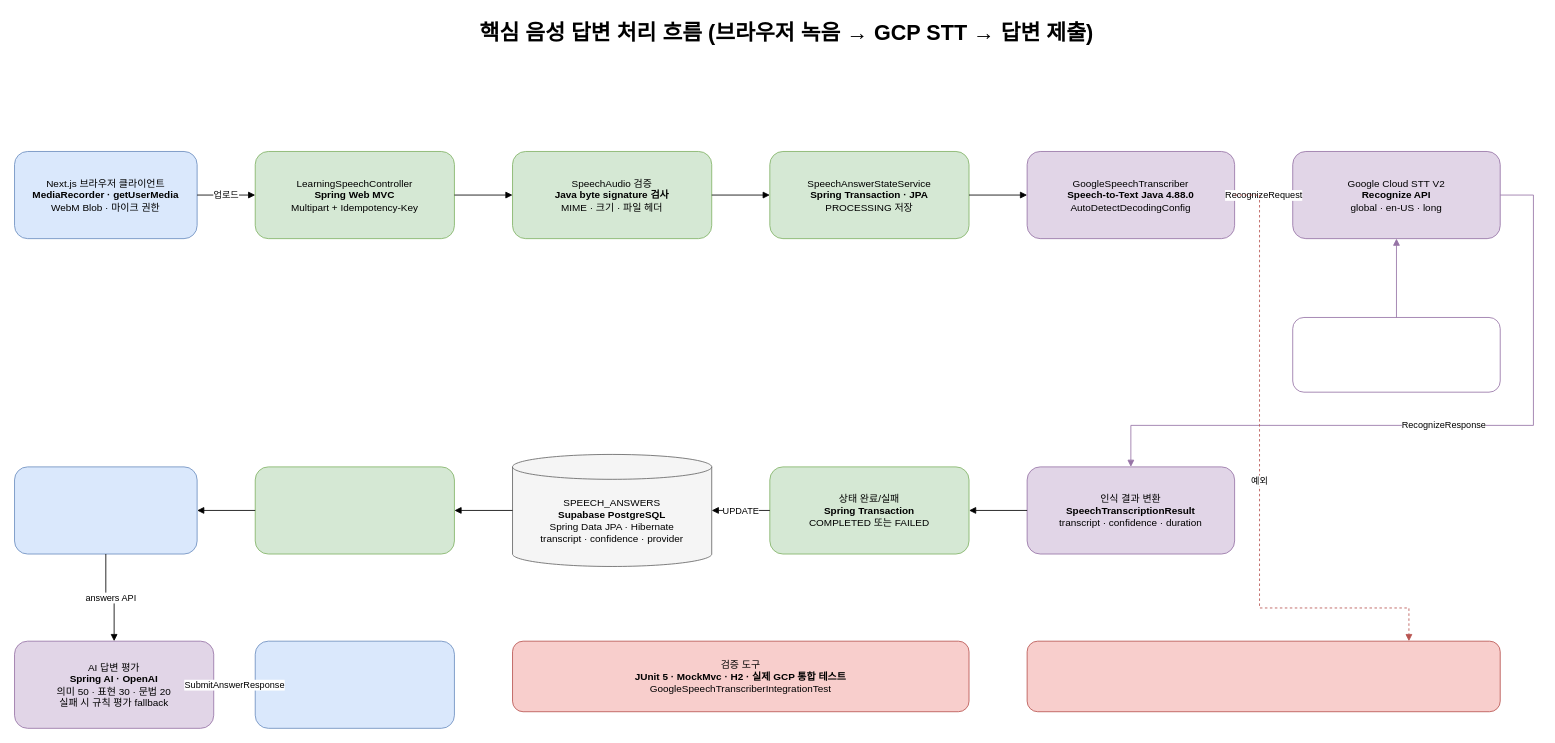
Image size: 1555x743. Some labels were removed from this diagram. The shapes that lost their labels are listed below. From the top down, each one's centre as x and y in pixels, then its label:
At point 1396,354: "인증 ADC · IAM GOOGLE_CLOUD_PROJECT".
At point 105,510: "답변 평가 요청 Next.js API Client speechAnswerId · transcript 제출".
At point 354,510: "STT 결과 응답 SpeechAnswerResponse speechAnswerId · transcript".
At point 354,684: "피드백 화면 Next.js App Router 점수 · 정답 결과 · 한국어 피드백 재시도 또는 건너뛰기".
At point 1263,676: "오류 매핑 ApiException · ControllerAdvice 429 Rate Limit · 504 Timeout · 500 Failure".
